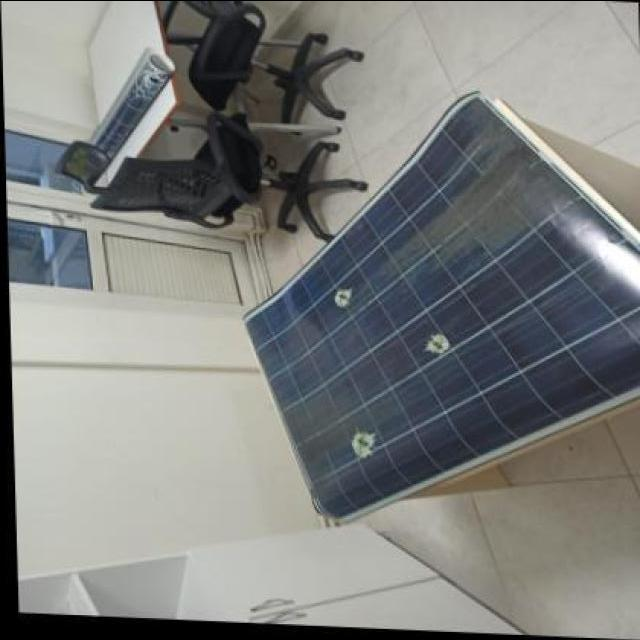soiled: (240, 93, 638, 558)
